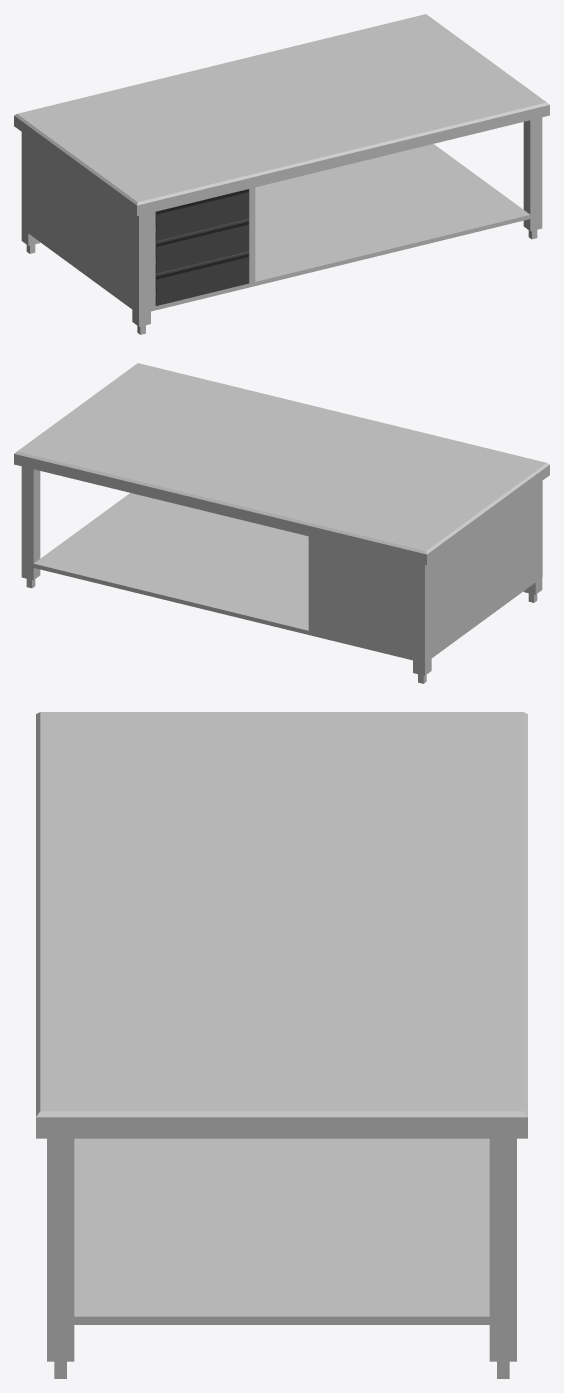
Rendered from MC_WorkTable.fbx.
3 renders of one model, top to bottom at view 1: azimuth 30°, elevation 25°; view 2: azimuth 150°, elevation 25°; view 3: azimuth 270°, elevation 25°, orthographic. The views are drawn at different scales.
Visible parts, largest first — view 1: Cube, Cube.004, Cube.003, Cube.005; view 2: Cube; view 3: Cube.
Boxes of the visible parts, box(x1,y1,x2,y2) form: Cube: box(14, 14, 549, 334); Cube.004: box(155, 219, 248, 273); Cube.003: box(155, 251, 248, 305); Cube.005: box(155, 189, 248, 240); Cube: box(14, 363, 549, 683); Cube: box(36, 712, 527, 1378).
Size of the model in its own units: 341 by 108 by 176.
